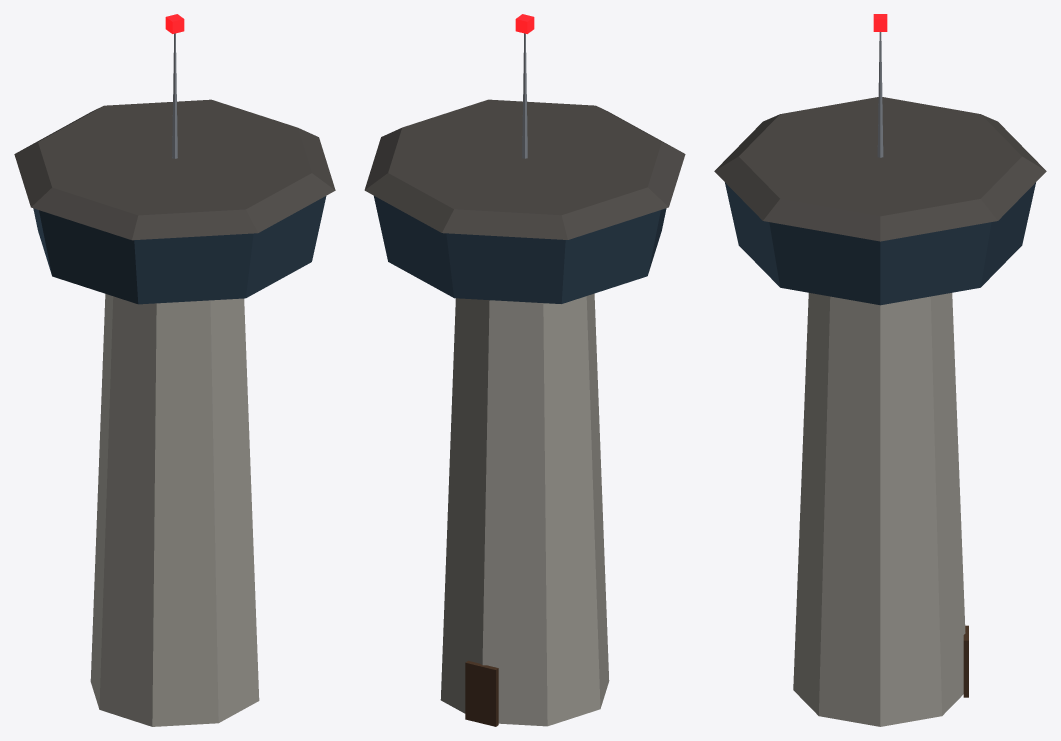
The model's file is bld_tower.glb.
3 renders of one model, left to right at view 1: azimuth 30°, elevation 25°; view 2: azimuth 150°, elevation 25°; view 3: azimuth 270°, elevation 25°, orthographic.
Visible parts, largest first — view 1: bld_tower__mesh; view 2: bld_tower__mesh; view 3: bld_tower__mesh.
Part boxes in pixels (left/top/right/bottom): bld_tower__mesh: left=14, top=14, right=335, bottom=726; bld_tower__mesh: left=364, top=14, right=685, bottom=726; bld_tower__mesh: left=714, top=14, right=1046, bottom=726.
Bounding box in the file's own units: 12.2 × 27.25 × 12.2.
